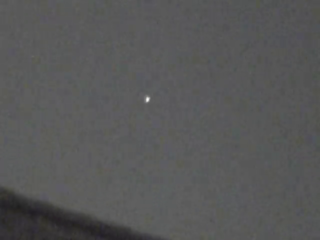Target: (146, 97, 151, 103)
